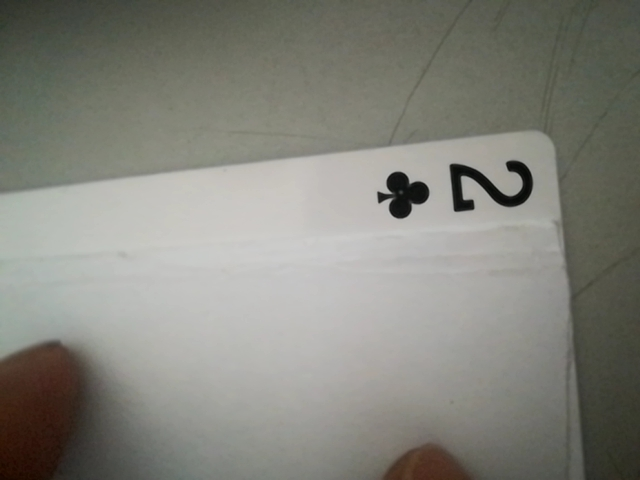mh 2: (359, 149, 552, 230)
